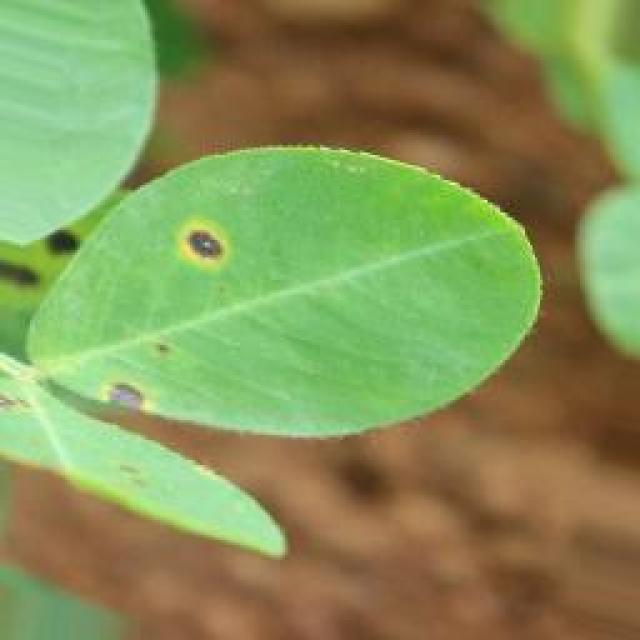Sigatoka: (92, 326, 203, 436), (152, 208, 276, 292), (101, 439, 169, 516), (0, 356, 61, 433)
